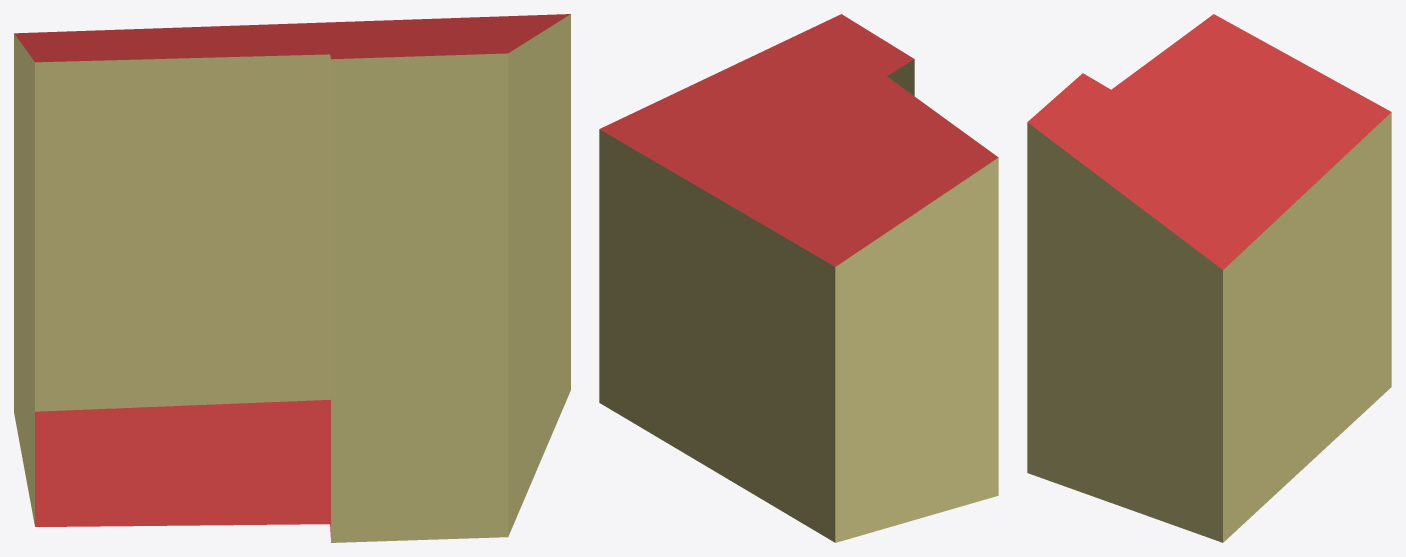
3 renders of one model, left to right at view 1: azimuth 30°, elevation 25°; view 2: azimuth 150°, elevation 25°; view 3: azimuth 270°, elevation 25°, orthographic. The views are drawn at different scales.
Visible parts, largest first — view 1: group_4, group_5, group_3; view 2: group_4, group_3; view 3: group_4, group_3.
Part boxes in pixels (left/top/right/bottom): group_4: left=14, top=14, right=570, bottom=542; group_5: left=35, top=399, right=330, bottom=537; group_3: left=14, top=14, right=570, bottom=62; group_4: left=599, top=59, right=998, bottom=542; group_3: left=599, top=14, right=998, bottom=266; group_4: left=1027, top=112, right=1391, bottom=542; group_3: left=1027, top=14, right=1391, bottom=269.
Size of the model in its own units: 8 by 6.42 by 6.82.
